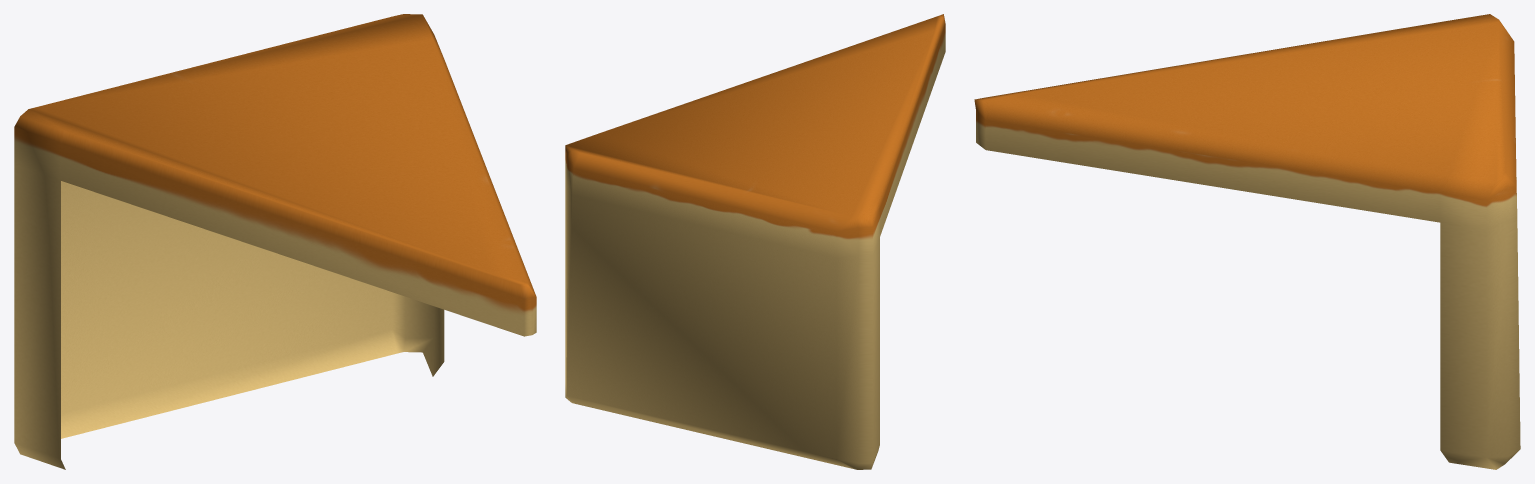
File: ButterChocolate.FBX
3 renders of one model, left to right at view 1: azimuth 30°, elevation 25°; view 2: azimuth 150°, elevation 25°; view 3: azimuth 270°, elevation 25°, orthographic. The views are drawn at different scales.
Parts seen in each view (by area): view 1: Box002; view 2: Box002; view 3: Box002.
Part boxes in pixels (bbox=[...]): Box002: bbox=[14, 14, 536, 469]; Box002: bbox=[565, 14, 945, 469]; Box002: bbox=[974, 14, 1520, 469].
Bounding box in the file's own units: 25.76 × 20 × 34.44.
